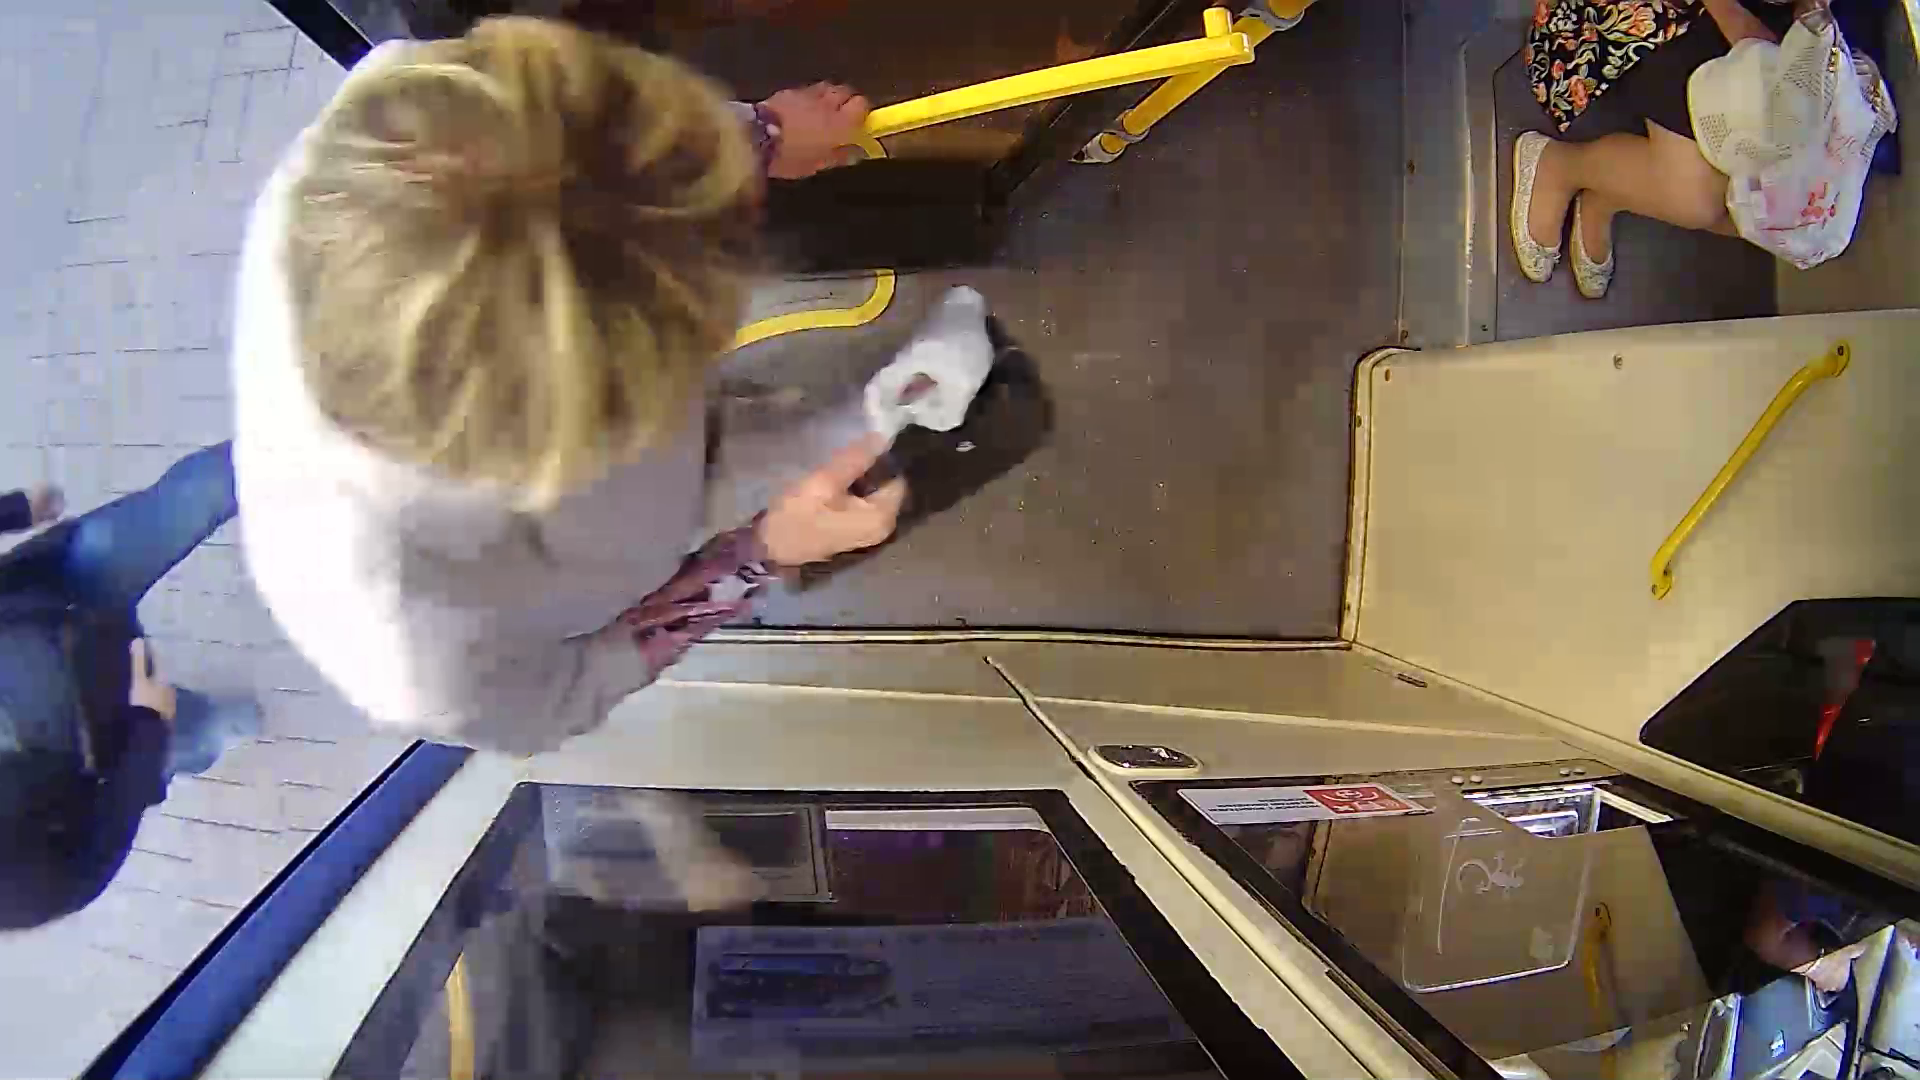person: (245, 9, 1011, 746)
